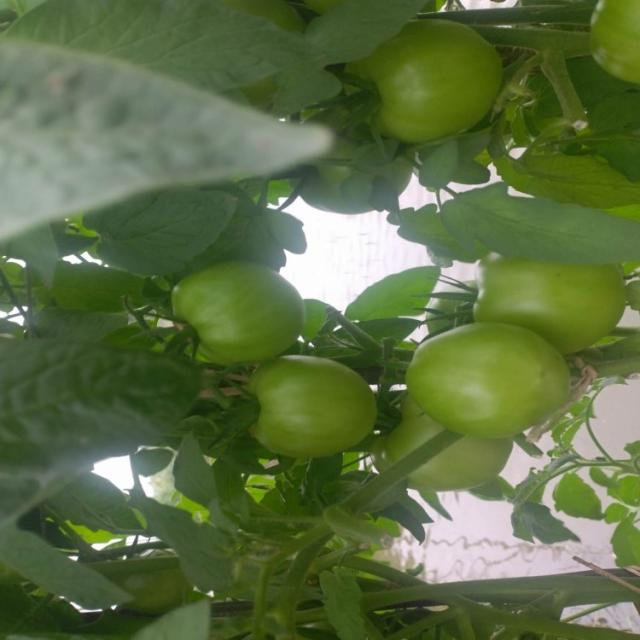tomato: (349, 17, 493, 142), (407, 331, 585, 423), (474, 248, 633, 345), (172, 265, 304, 371), (281, 116, 401, 226), (245, 359, 374, 451), (387, 413, 504, 491), (586, 7, 640, 80)
